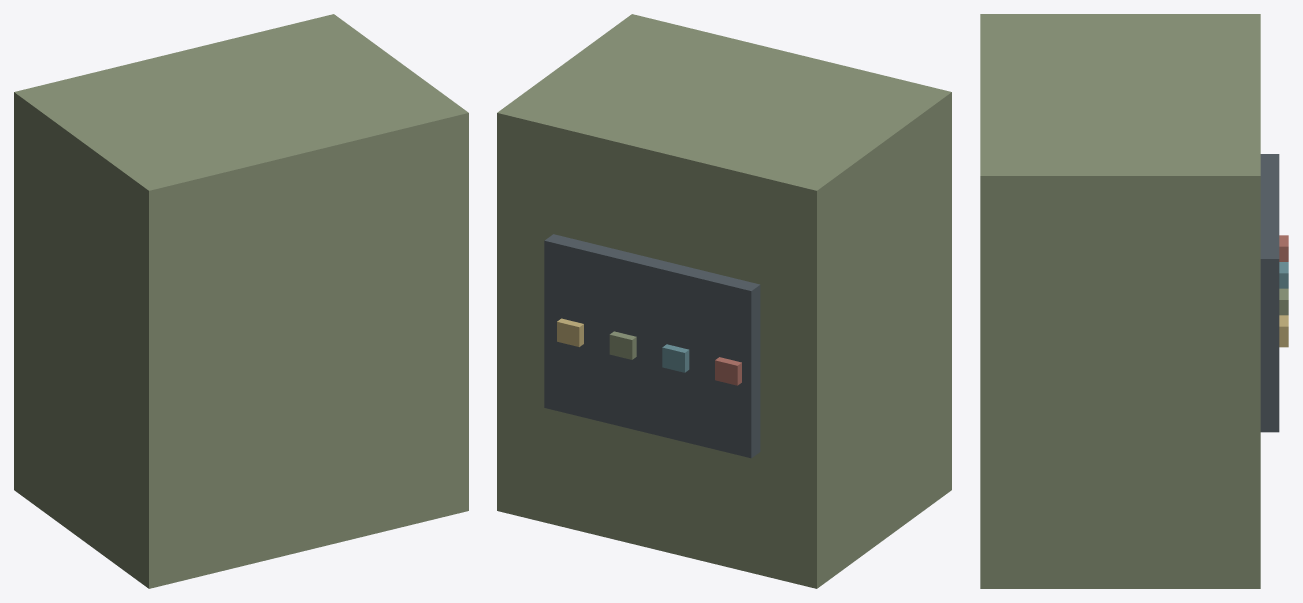
The model's file is iz2_logistics_sorting_table.glb.
3 views of the same model, side by side, from view 1: azimuth 30°, elevation 25°; view 2: azimuth 150°, elevation 25°; view 3: azimuth 270°, elevation 25° (orthographic). The views are drawn at different scales.
Parts seen in each view (by area): view 1: body; view 2: body; view 3: body.
Boxes of the visible parts, x1=… form: body: x1=14, y1=14, x2=468, y2=588; body: x1=497, y1=14, x2=951, y2=588; body: x1=980, y1=14, x2=1288, y2=588.
Bounding box in the file's own units: 0.8493 × 1.01 × 0.6831.
